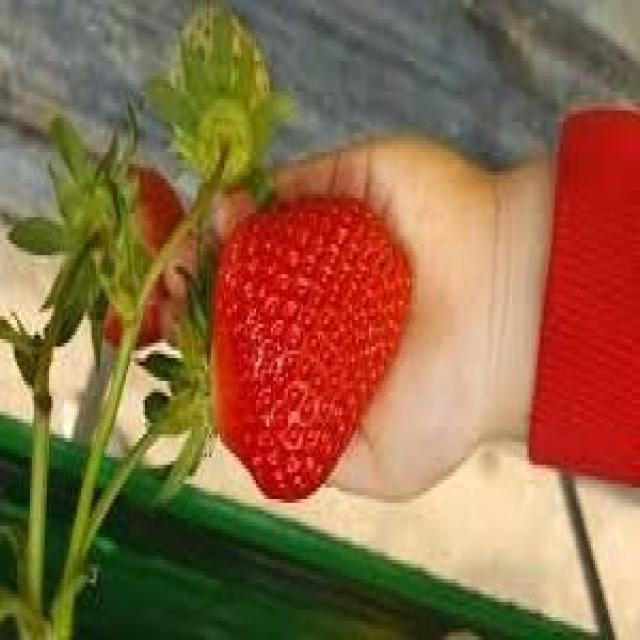mature: (210, 198, 412, 506)
